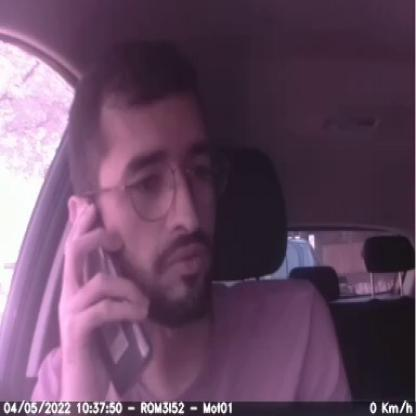phone: (64, 211, 153, 395)
